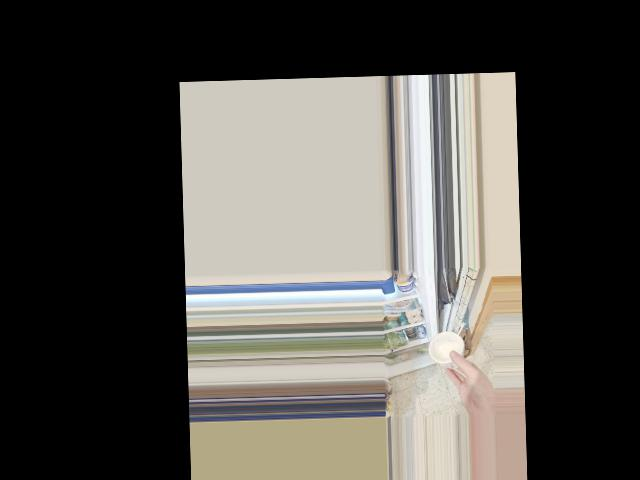cotage: (430, 326, 466, 371)
